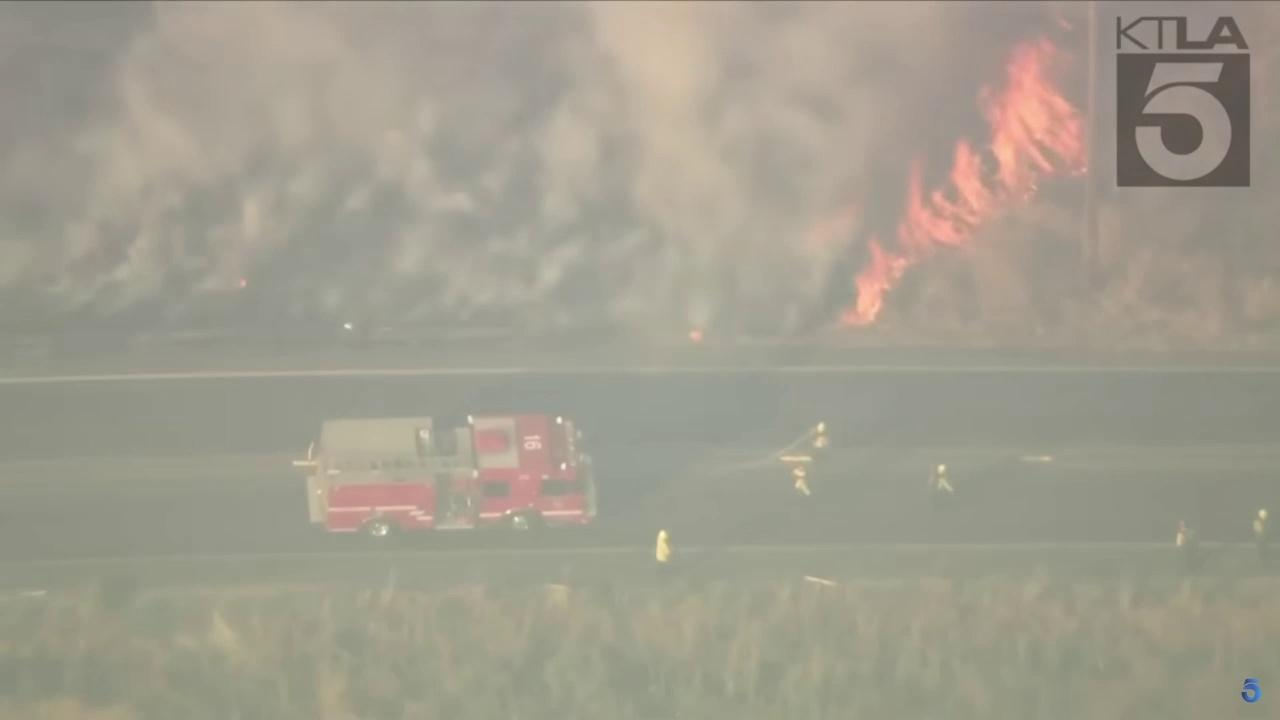fire: (841, 31, 1089, 328), (686, 326, 709, 345), (1075, 0, 1093, 19), (239, 278, 248, 288)
smoke: (0, 0, 1001, 330)
